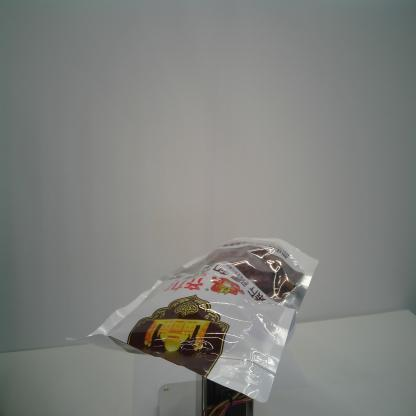Dried Food: (61, 235, 322, 406)
